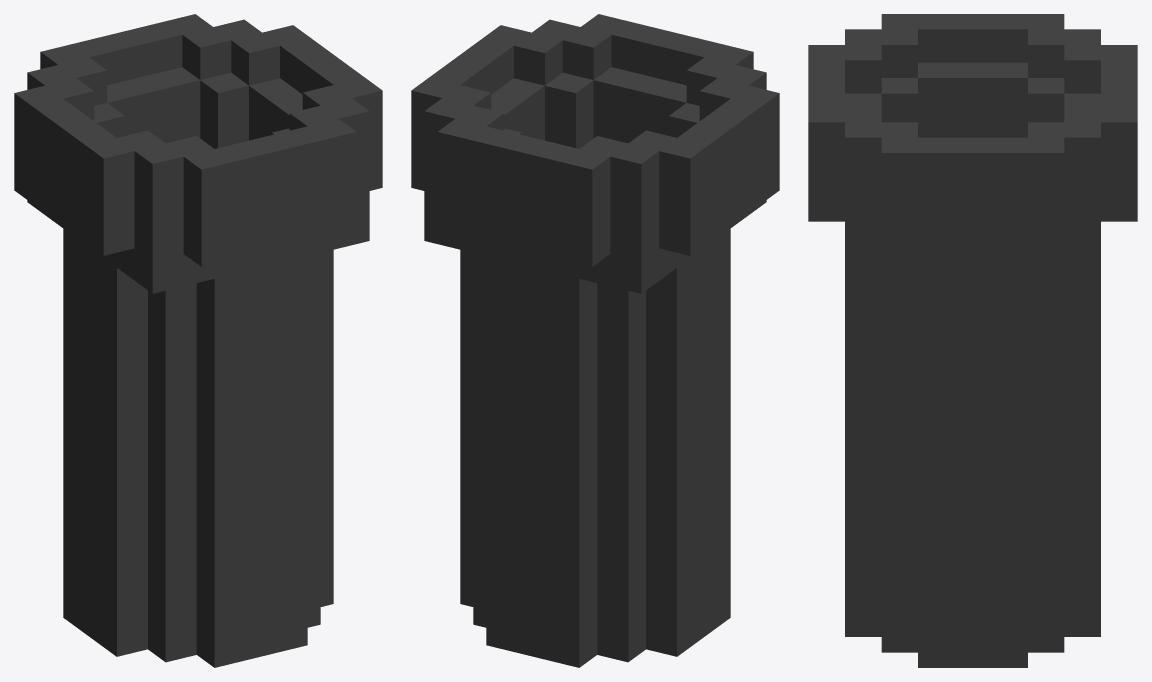
Rendered from lvl1-4.obj.
The picture shows the model from 3 angles, left to right: view 1: azimuth 30°, elevation 25°; view 2: azimuth 150°, elevation 25°; view 3: azimuth 270°, elevation 25°; orthographic projection. The views are drawn at different scales.
Size of the model in its own units: 0.9 by 1.6 by 0.9.
1 material, 1 textured.
